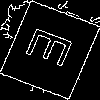E: (25, 24, 83, 73)
